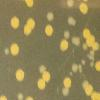yellow: (25, 16, 37, 32), (58, 38, 70, 53), (9, 15, 20, 31), (9, 42, 20, 58), (14, 67, 25, 83), (77, 2, 89, 16), (21, 23, 32, 38), (44, 23, 54, 38), (84, 82, 94, 96), (63, 75, 72, 90), (86, 34, 96, 47), (37, 63, 47, 76), (71, 36, 81, 48), (82, 27, 91, 40), (37, 78, 46, 91), (90, 89, 100, 100), (61, 86, 70, 98), (92, 40, 100, 53), (46, 11, 55, 22), (93, 59, 100, 73), (23, 0, 35, 8), (43, 70, 51, 82), (62, 30, 71, 40), (65, 0, 75, 9), (71, 62, 78, 74), (87, 53, 96, 62), (3, 47, 11, 57), (82, 78, 88, 90), (77, 63, 83, 74), (67, 16, 74, 25), (81, 42, 88, 51), (88, 60, 95, 69), (17, 92, 24, 100), (71, 18, 77, 27), (24, 95, 34, 100), (90, 49, 96, 57), (80, 58, 86, 66), (0, 94, 7, 100), (68, 71, 74, 76), (81, 0, 89, 3)
